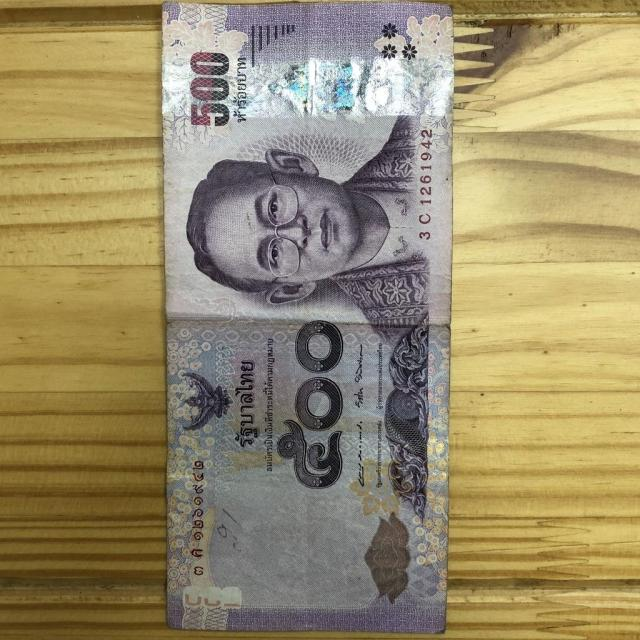THAI500: (162, 2, 454, 631)
